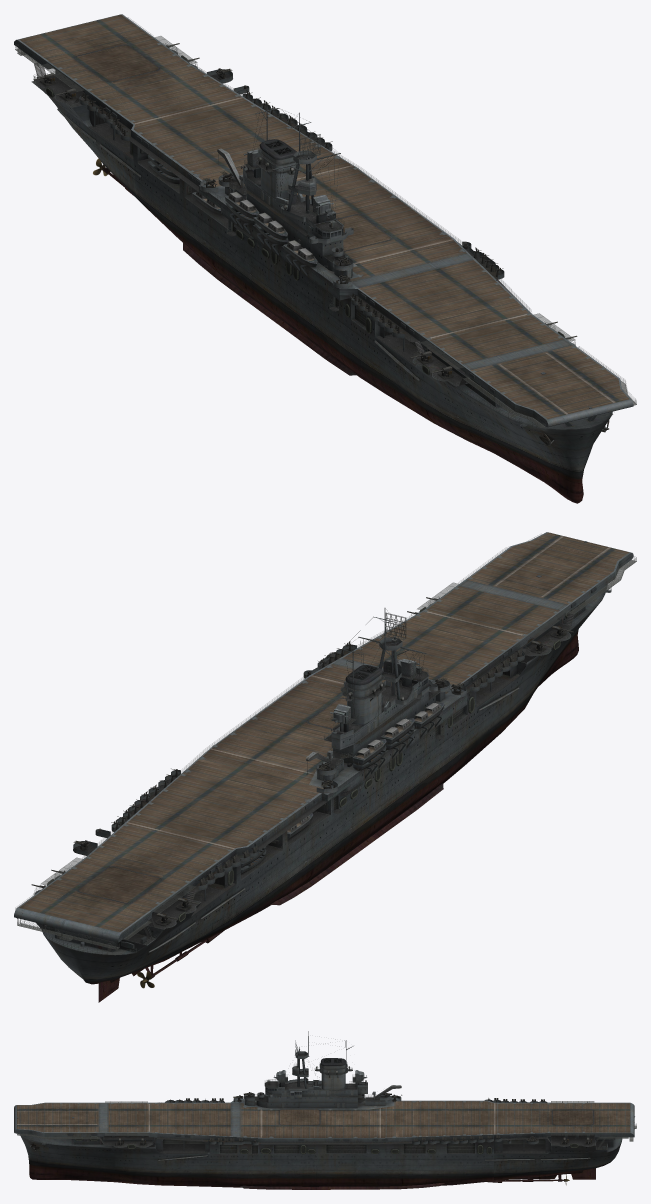
Rendered from cv-7_uss_wasp_war_thunder.glb.
3 views of the same model, one above another, from view 1: azimuth 30°, elevation 25°; view 2: azimuth 150°, elevation 25°; view 3: azimuth 270°, elevation 25° (orthographic). The views are drawn at different scales.
Visible parts, largest first — view 1: Object_5, Object_3, Object_6, Object_2, Object_4; view 2: Object_5, Object_3, Object_6, Object_2, Object_4; view 3: Object_3, Object_5, Object_6, Object_2, Object_4.
Part boxes in pixels (x1=…): Object_5: x1=16, y1=14, x2=633, y2=427; Object_3: x1=14, y1=40, x2=612, y2=503; Object_6: x1=15, y1=17, x2=636, y2=430; Object_2: x1=34, y1=50, x2=612, y2=432; Object_4: x1=48, y1=69, x2=504, y2=375; Object_5: x1=14, y1=532, x2=630, y2=951; Object_3: x1=17, y1=541, x2=633, y2=1002; Object_6: x1=15, y1=534, x2=636, y2=988; Object_2: x1=34, y1=590, x2=611, y2=974; Object_4: x1=73, y1=631, x2=558, y2=921; Object_3: x1=14, y1=1031, x2=635, y2=1189; Object_5: x1=14, y1=1064, x2=634, y2=1145; Object_6: x1=17, y1=1033, x2=636, y2=1185; Object_2: x1=20, y1=1053, x2=592, y2=1179; Object_4: x1=117, y1=1051, x2=590, y2=1144.
Size of the model in its own units: 39.95 by 55.09 by 228.
Materials: 5 (5 with a texture image).
